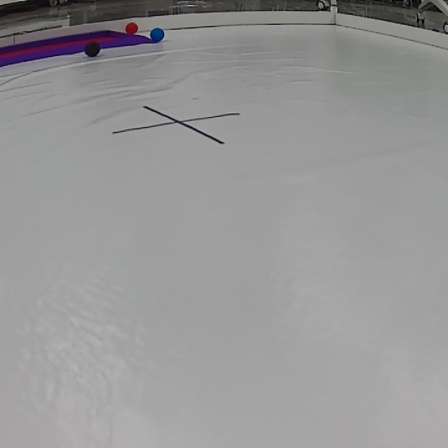black: (81, 40, 101, 58)
blue: (149, 28, 165, 43)
red: (124, 22, 140, 37)
red_aim: (0, 27, 155, 66)
